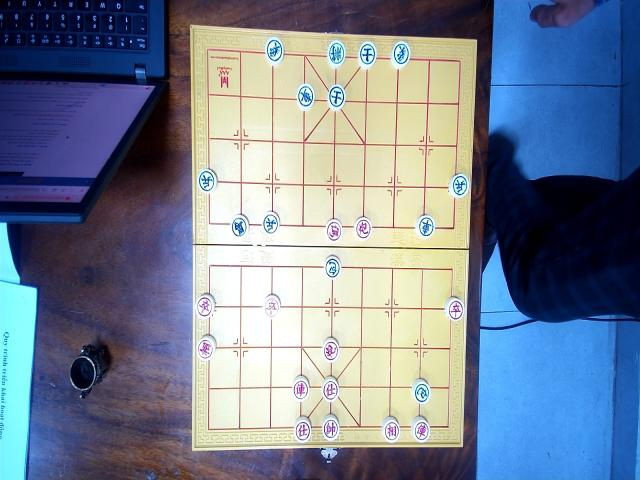piece: (448, 171, 469, 199), (196, 334, 216, 361), (410, 415, 430, 442), (444, 295, 464, 322), (390, 41, 410, 68), (326, 40, 346, 67), (265, 36, 284, 64), (381, 416, 400, 443), (411, 378, 430, 405), (294, 416, 312, 444), (197, 168, 217, 193), (195, 292, 214, 318), (322, 337, 340, 364), (292, 374, 310, 401), (358, 41, 376, 68), (296, 83, 314, 110), (415, 215, 435, 239), (327, 84, 345, 110), (354, 215, 372, 240), (230, 213, 248, 238), (322, 415, 339, 441), (321, 376, 338, 402), (324, 218, 342, 242), (262, 212, 280, 236), (324, 254, 341, 278), (264, 293, 280, 318)
